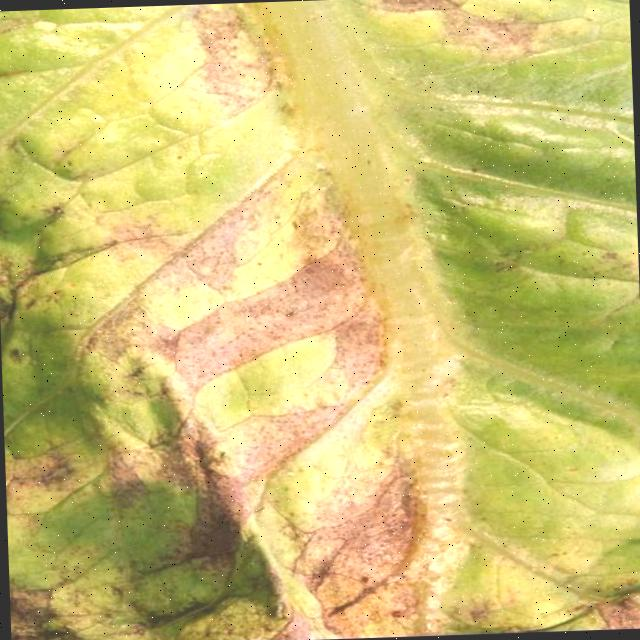Septoria_Blight_on_lettuce: (2, 5, 424, 640)
